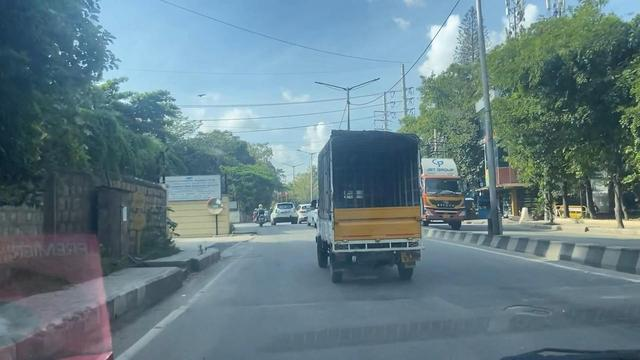HMV: (307, 121, 429, 293), (423, 149, 476, 237)
RoadDamages: (484, 284, 563, 332), (223, 249, 273, 266)
